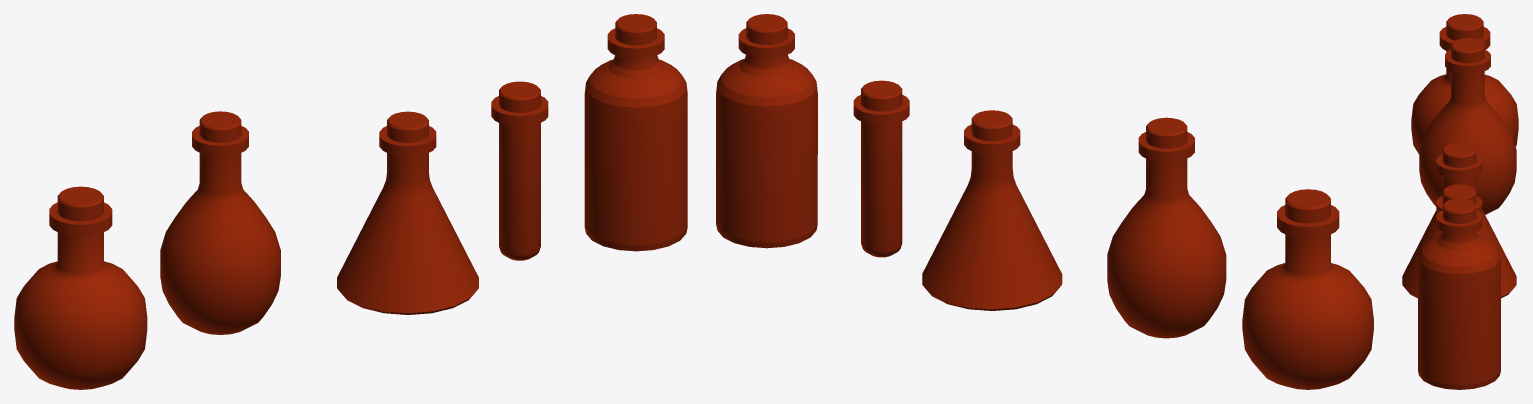
File: Potions.fbx
3 renders of one model, left to right at view 1: azimuth 30°, elevation 25°; view 2: azimuth 150°, elevation 25°; view 3: azimuth 270°, elevation 25°, orthographic. The views are drawn at different scales.
Parts seen in each view (by area): view 1: Potion005, Potion001, Potion002, Potion003, Potion004, Potion001Cap, Potion02, Potion003Cap, Potion005Cap, Potion004Cap; view 2: Potion005, Potion001, Potion002, Potion003, Potion004, Potion001Cap, Potion02, Potion004Cap, Potion003Cap, Potion005Cap; view 3: Potion005, Potion002, Potion001, Potion003, Potion001Cap, Potion003Cap, Potion005Cap, Potion02, Potion004Cap, Potion004.
Boxes of the visible parts, box(x1,y1,x2,y2) form: Potion005: box(584, 28, 687, 251); Potion001: box(14, 202, 147, 389); Potion002: box(160, 126, 280, 334); Potion003: box(337, 126, 478, 314); Potion004: box(491, 96, 548, 260); Potion001Cap: box(57, 186, 103, 221); Potion02: box(199, 111, 241, 142); Potion003Cap: box(387, 111, 428, 142); Potion005Cap: box(615, 14, 656, 45); Potion004Cap: box(499, 81, 540, 112); Potion005: box(716, 28, 817, 248); Potion001: box(1242, 205, 1373, 389); Potion002: box(1107, 132, 1226, 338); Potion003: box(922, 124, 1062, 310); Potion004: box(853, 95, 909, 257); Potion001Cap: box(1285, 189, 1330, 223); Potion02: box(1146, 117, 1187, 148); Potion004Cap: box(861, 80, 902, 111); Potion003Cap: box(971, 110, 1012, 141); Potion005Cap: box(746, 14, 787, 44); Potion005: box(1418, 210, 1500, 389); Potion002: box(1419, 49, 1516, 214); Potion001: box(1411, 27, 1518, 154); Potion003: box(1402, 154, 1516, 298); Potion001Cap: box(1446, 14, 1483, 40); Potion003Cap: box(1442, 142, 1476, 167); Potion005Cap: box(1442, 198, 1476, 223); Potion02: box(1451, 38, 1484, 63); Potion004Cap: box(1442, 184, 1476, 204); Potion004: box(1436, 196, 1482, 213).
Bounding box in the file's own units: 56.67 × 18.51 × 10.81.
